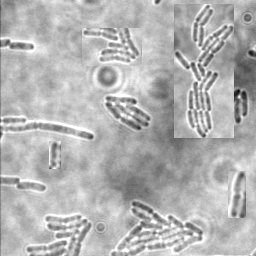Dividing: (1, 123, 95, 142), (228, 171, 246, 218), (8, 41, 35, 52)
Microcolony: (174, 4, 234, 138), (109, 200, 205, 255), (25, 212, 94, 255), (82, 28, 142, 66), (103, 96, 150, 132), (16, 182, 48, 193)
Rod: (49, 141, 61, 169)
